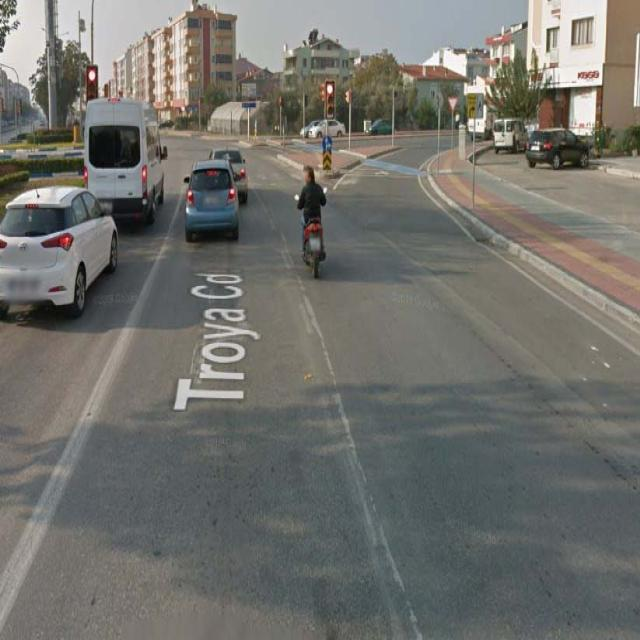ilerisag: (322, 136, 333, 150)
kirmizi: (86, 65, 98, 108), (326, 82, 334, 117)
